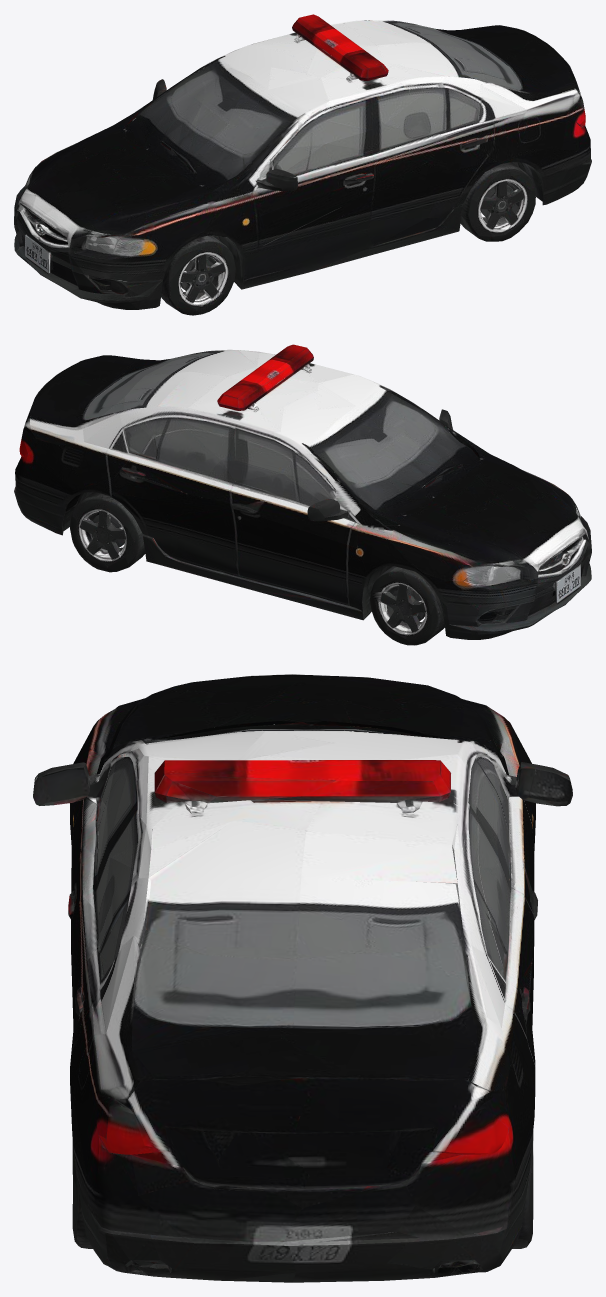
Rendered from car_police.glb.
3 views of the same model, one above another, from view 1: azimuth 30°, elevation 25°; view 2: azimuth 150°, elevation 25°; view 3: azimuth 270°, elevation 25° (orthographic). The views are drawn at different scales.
Bounding box in the file's own units: 1.9 × 0.648 × 0.8543.
1 material, 1 textured.
